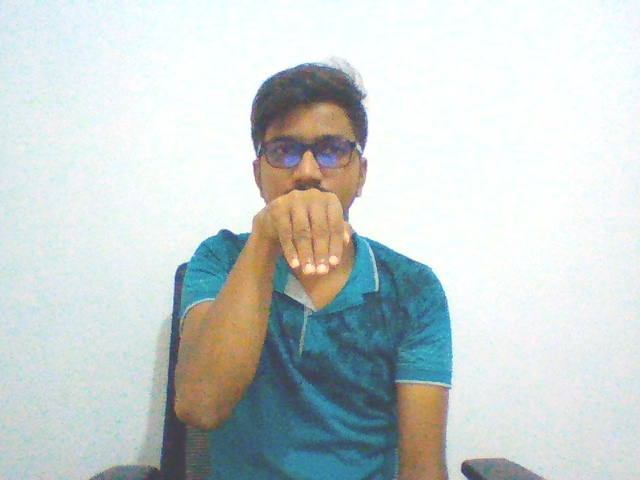Squirrel: (244, 182, 364, 286)
